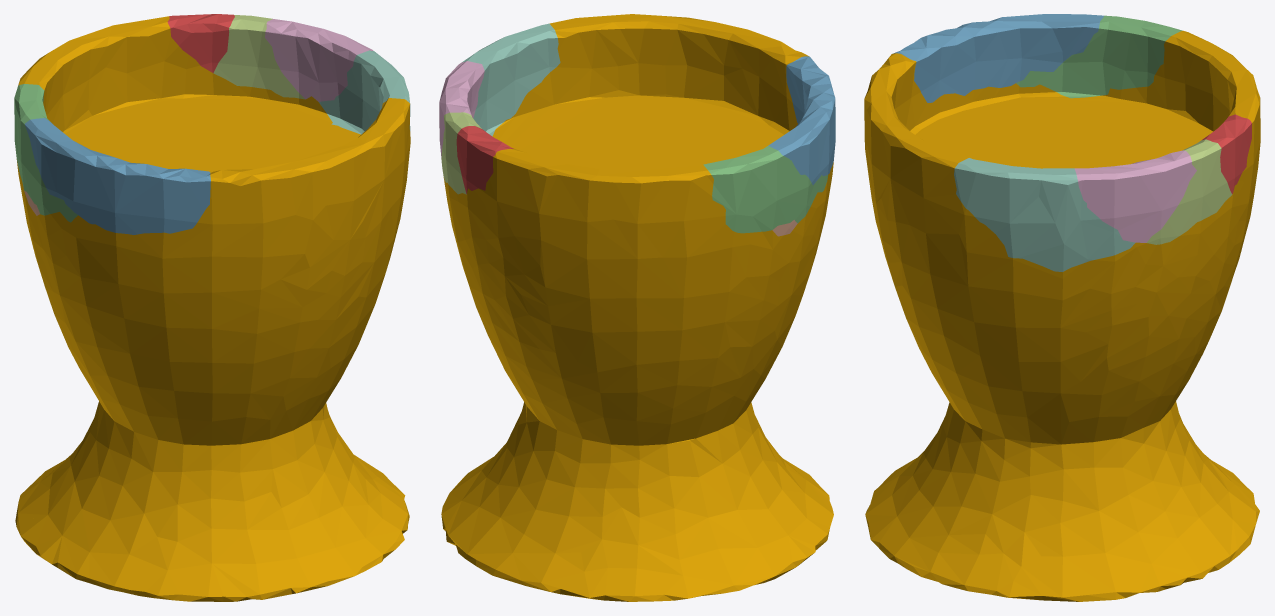
Rendered from fractured_54_8pcs.glb.
3 renders of one model, left to right at view 1: azimuth 30°, elevation 25°; view 2: azimuth 150°, elevation 25°; view 3: azimuth 270°, elevation 25°, orthographic.
Parts seen in each view (by area): view 1: piece_0.obj, piece_2.obj, piece_6.obj, piece_4.obj, piece_5.obj, piece_3.obj, piece_1.obj; view 2: piece_0.obj, piece_3.obj, piece_4.obj, piece_2.obj, piece_1.obj, piece_6.obj, piece_5.obj; view 3: piece_0.obj, piece_4.obj, piece_2.obj, piece_3.obj, piece_6.obj, piece_5.obj, piece_1.obj.
Part boxes in pixels (box(x1,y1,x2,y2)): piece_0.obj: box(15, 16, 410, 601); piece_2.obj: box(24, 118, 210, 234); piece_6.obj: box(265, 19, 373, 101); piece_4.obj: box(319, 50, 410, 134); piece_5.obj: box(213, 15, 304, 99); piece_3.obj: box(14, 84, 77, 222); piece_1.obj: box(167, 14, 234, 72); piece_0.obj: box(441, 14, 833, 601); piece_3.obj: box(703, 146, 828, 233); piece_4.obj: box(462, 23, 560, 136); piece_2.obj: box(768, 56, 835, 185); piece_1.obj: box(456, 126, 513, 193); piece_6.obj: box(439, 61, 484, 157); piece_5.obj: box(441, 112, 481, 194); piece_0.obj: box(864, 30, 1260, 601); piece_4.obj: box(954, 158, 1135, 271); piece_2.obj: box(892, 14, 1103, 102); piece_3.obj: box(1016, 15, 1182, 98); piece_6.obj: box(1074, 150, 1196, 242); piece_5.obj: box(1147, 139, 1232, 244); piece_1.obj: box(1202, 114, 1251, 194).
Bounding box in the file's own units: 0.8413 × 0.9997 × 0.8403.
